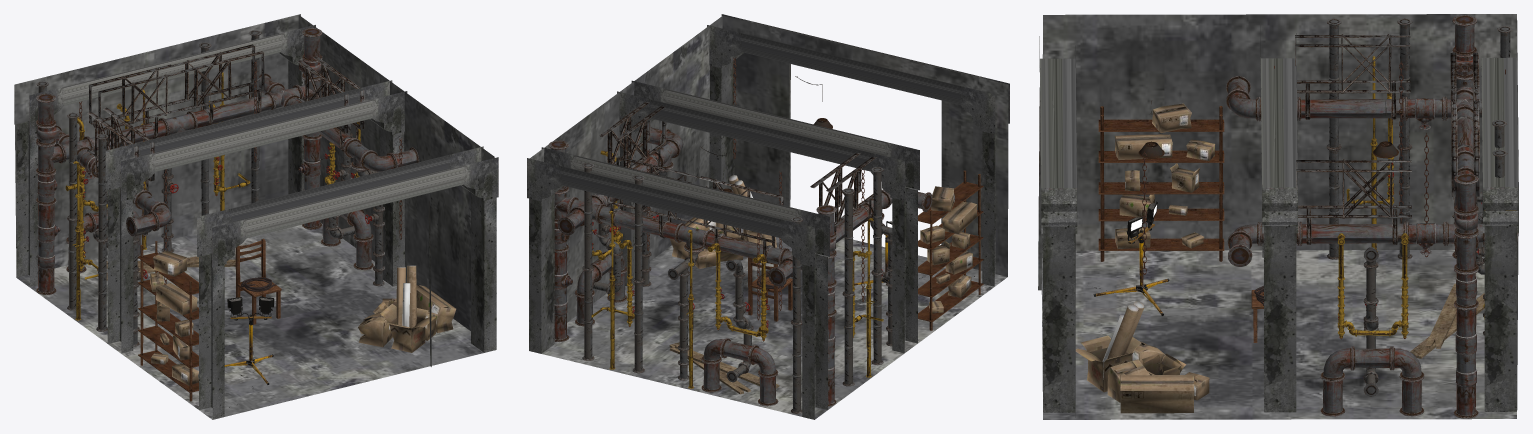
File: interrogation_room.glb
3 renders of one model, left to right at view 1: azimuth 30°, elevation 25°; view 2: azimuth 150°, elevation 25°; view 3: azimuth 270°, elevation 25°, orthographic. The views are drawn at different scales.
Visible parts, largest first — view 1: Walls_Walls_0; view 2: Walls_Walls_0; view 3: Walls_Walls_0.
Boxes of the visible parts, bbox=[...] form: Walls_Walls_0: bbox=[14, 14, 498, 419]; Walls_Walls_0: bbox=[527, 14, 1009, 419]; Walls_Walls_0: bbox=[1038, 14, 1518, 419].
Size of the model in its own units: 4.65 by 3 by 5.48.
10 materials, 10 textured.
